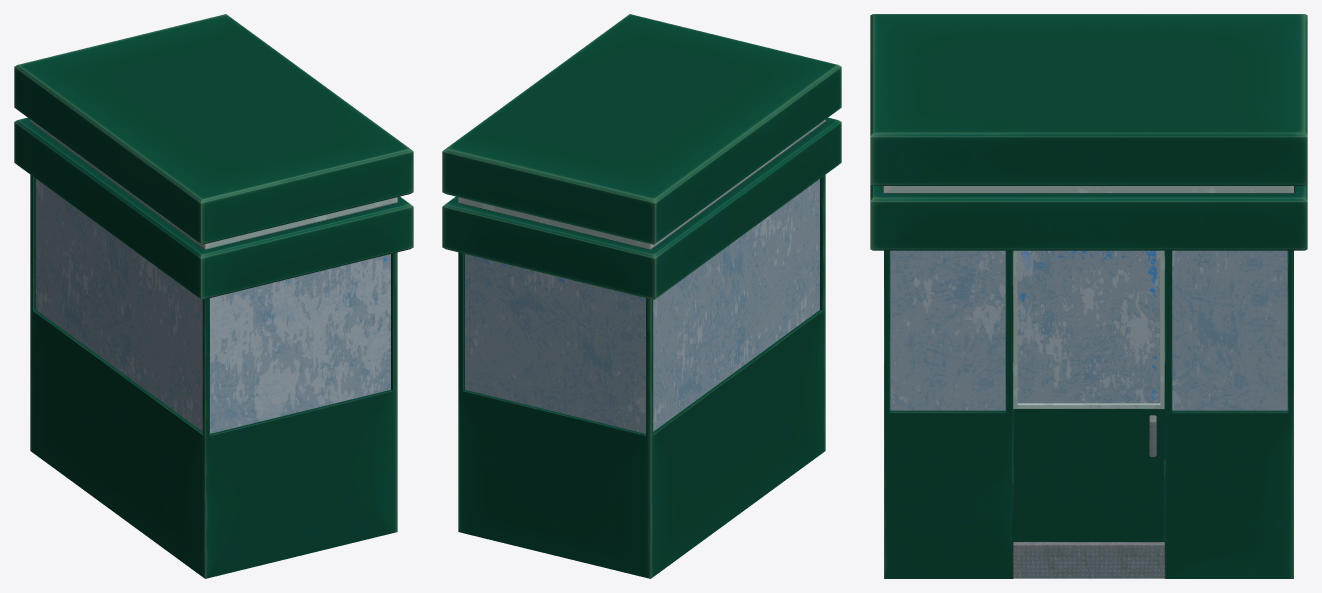
File: TollBooth.fbx
3 views of the same model, side by side, from view 1: azimuth 30°, elevation 25°; view 2: azimuth 150°, elevation 25°; view 3: azimuth 270°, elevation 25° (orthographic). The views are drawn at different scales.
Parts seen in each view (by area): view 1: TollBooth1, Windows; view 2: TollBooth1, Windows; view 3: TollBooth1, Windows.
Part boxes in pixels (x1,y1,x2,y2): TollBooth1: [14, 14, 413, 578]; Windows: [36, 179, 390, 433]; TollBooth1: [442, 14, 841, 578]; Windows: [465, 179, 819, 433]; TollBooth1: [870, 14, 1307, 578]; Windows: [890, 250, 1287, 410].
Size of the model in its own units: 3.34 by 5.76 by 5.07.
Materials: 1 (1 with a texture image).
